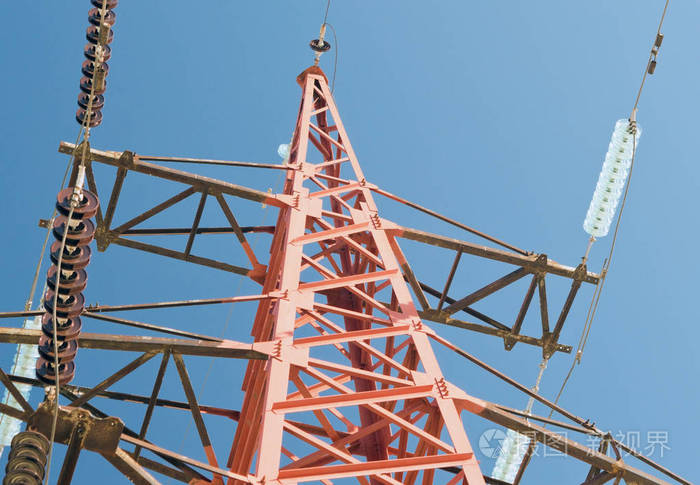insulator: (36, 185, 98, 388), (583, 116, 640, 237), (77, 1, 117, 128), (6, 432, 54, 485)
